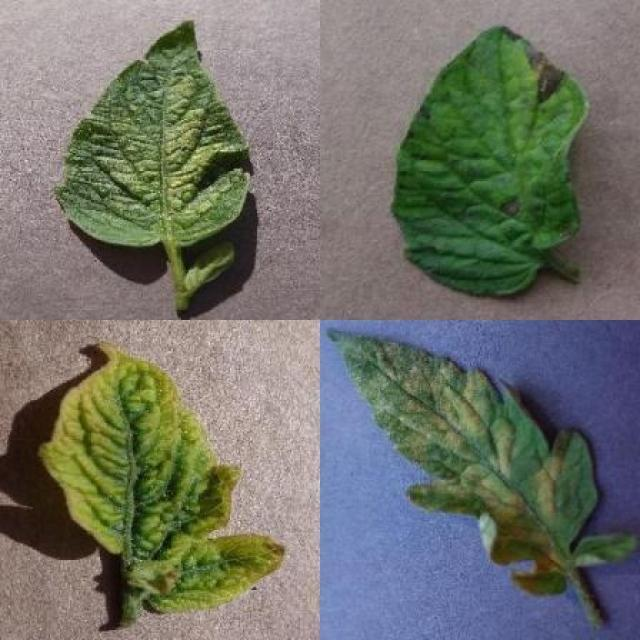Early Blight: (391, 20, 588, 304)
Leaf Mold: (328, 326, 638, 596)
Spider Mites: (58, 20, 251, 246)
Yellow Leaf Curl Virus: (42, 342, 287, 617)
